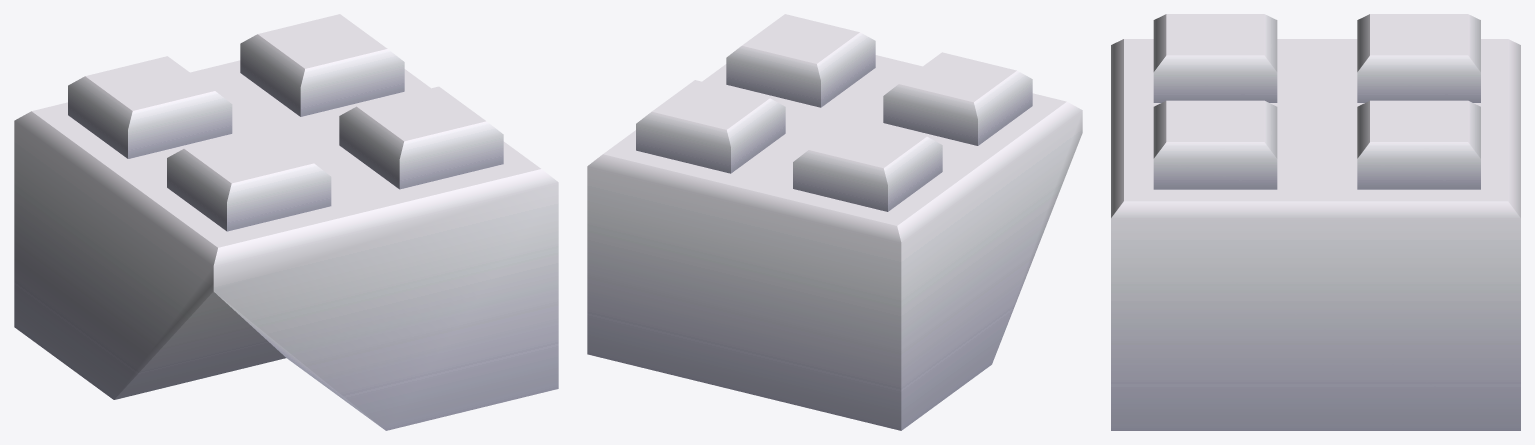
The model's file is square-hq-brick-slope-corner-inside-inverted-2x2.glb.
3 renders of one model, left to right at view 1: azimuth 30°, elevation 25°; view 2: azimuth 150°, elevation 25°; view 3: azimuth 270°, elevation 25°, orthographic. The views are drawn at different scales.
Visible parts, largest first — view 1: square-hq-brick-slope-corner-inside-inverted-2x2; view 2: square-hq-brick-slope-corner-inside-inverted-2x2; view 3: square-hq-brick-slope-corner-inside-inverted-2x2.
Part boxes in pixels (x1=…): square-hq-brick-slope-corner-inside-inverted-2x2: x1=14, y1=14, x2=558, y2=430; square-hq-brick-slope-corner-inside-inverted-2x2: x1=587, y1=14, x2=1082, y2=430; square-hq-brick-slope-corner-inside-inverted-2x2: x1=1111, y1=14, x2=1520, y2=430.
Bounding box in the file's own units: 0.159 × 0.114 × 0.159.
1 material, 1 textured.
